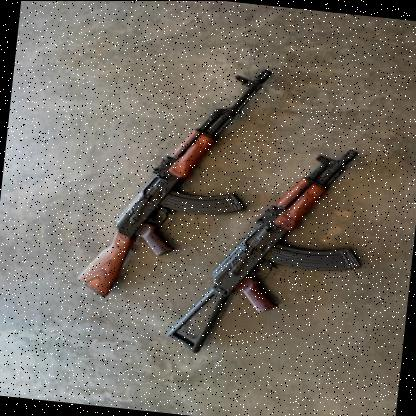rifle: (67, 46, 290, 314), (161, 129, 379, 367)
